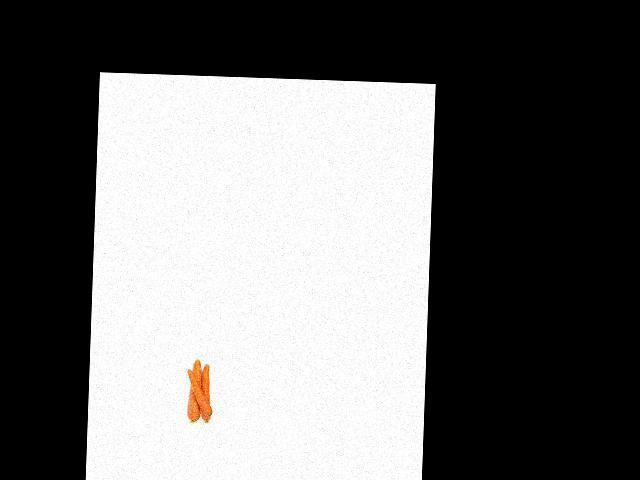carrot: (198, 362, 213, 427)
